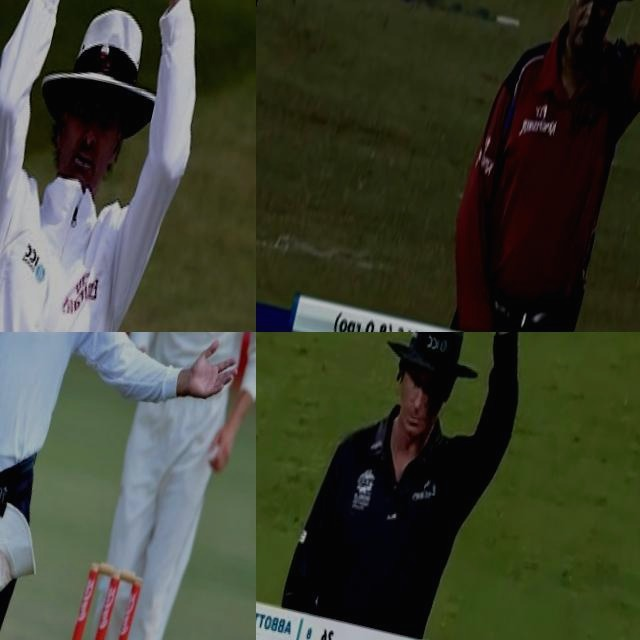Out: (275, 332, 562, 640), (425, 0, 640, 332)
Six: (0, 0, 254, 332)
Wide: (0, 332, 256, 524)
